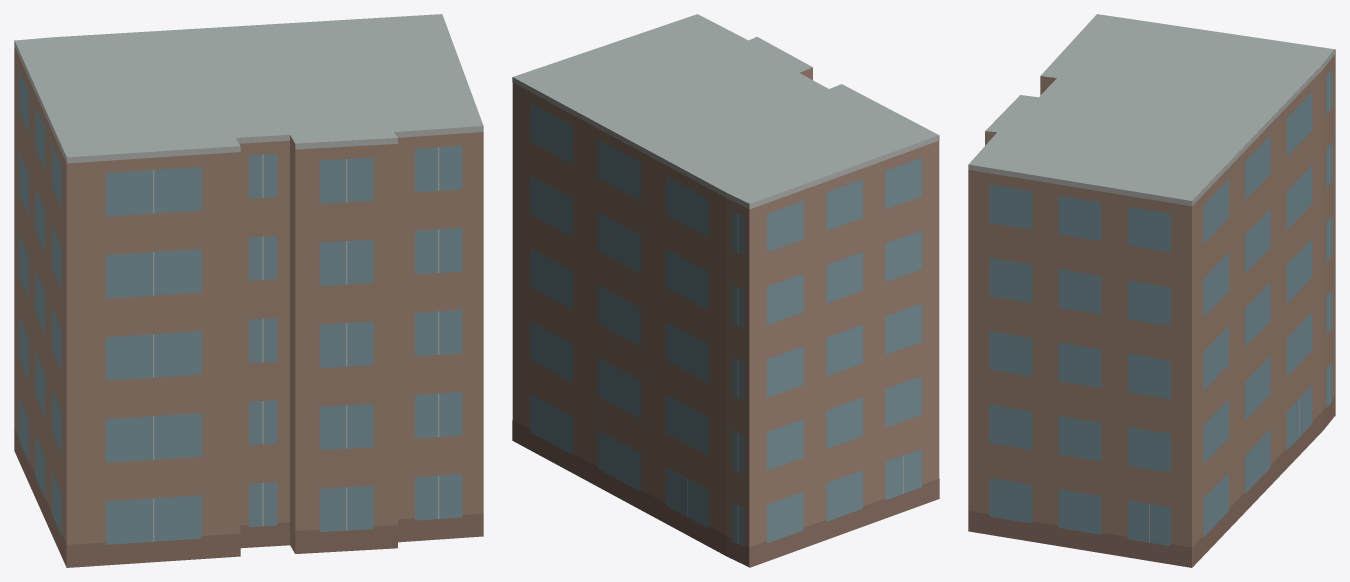
Rendered from survey-upis-32753300.glb.
The picture shows the model from 3 angles, left to right: view 1: azimuth 30°, elevation 25°; view 2: azimuth 150°, elevation 25°; view 3: azimuth 270°, elevation 25°; orthographic projection. The views are drawn at different scales.
Parts seen in each view (by area): view 1: survey-upis-32753300.tmp; view 2: survey-upis-32753300.tmp; view 3: survey-upis-32753300.tmp.
Part boxes in pixels (left/top/right/bottom): survey-upis-32753300.tmp: left=14, top=14, right=483, bottom=567; survey-upis-32753300.tmp: left=512, top=14, right=939, bottom=567; survey-upis-32753300.tmp: left=968, top=14, right=1335, bottom=567.
Size of the model in its own units: 18.4 by 16.83 by 15.27.
